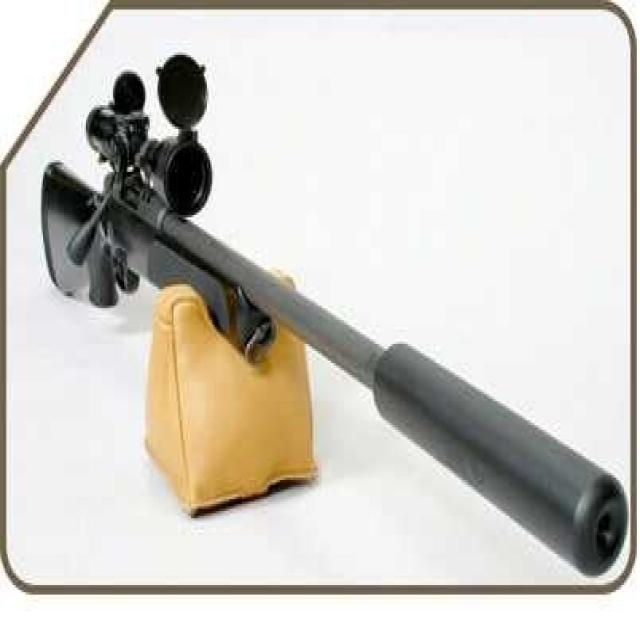heavyweapon: (30, 54, 635, 598)
